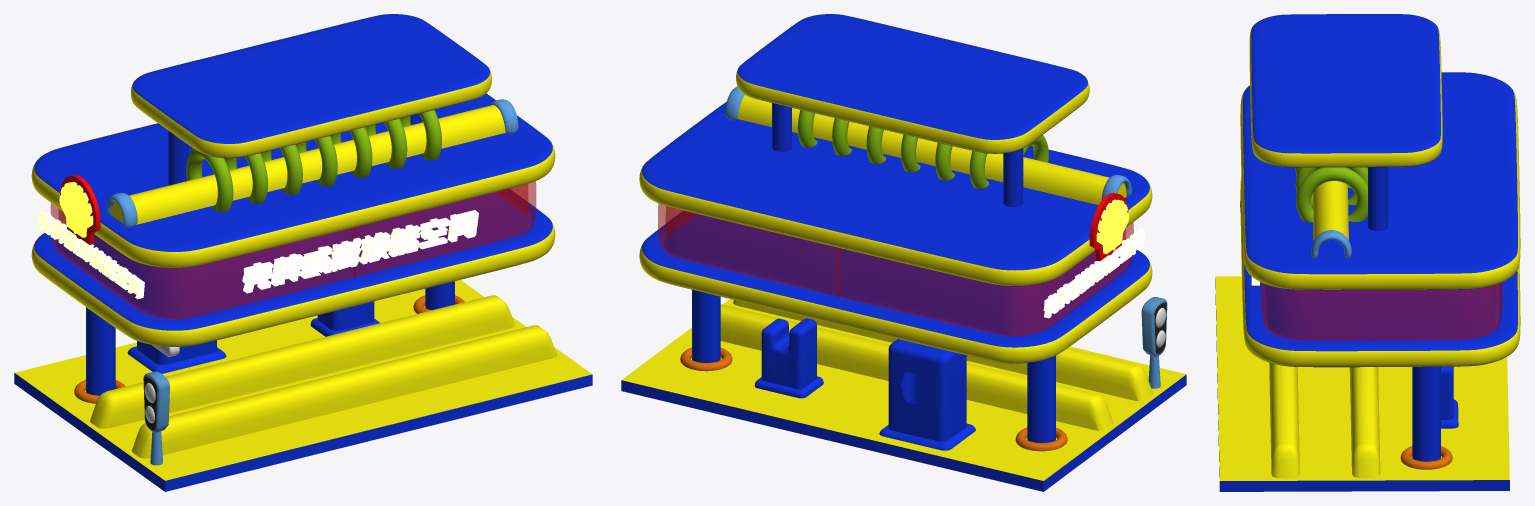
The model's file is HNStation.fbx.
3 renders of one model, left to right at view 1: azimuth 30°, elevation 25°; view 2: azimuth 150°, elevation 25°; view 3: azimuth 270°, elevation 25°, orthographic. The views are drawn at different scales.
Parts seen in each view (by area): view 1: stasiun.003, jalan.001, stasiun.005, stasiun.004, terowongan kereta.004, Torus.004, logo.003, logo.002, gedung.002, traffic light.001, gedung.003, logo.006 (+3 smaller); view 2: stasiun.003, jalan.001, stasiun.005, stasiun.004, gedung.002, terowongan kereta.004, gedung.003, Torus.004, logo.002, traffic light.001, Torus.002, logo.006 (+2 smaller); view 3: stasiun.003, jalan.001, stasiun.005, stasiun.004, Torus.004, terowongan kereta.004, gedung.003, Torus.002, terowongan kereta.003.
Boxes of the visible parts, box(x1,y1,x2,y2) form: stasiun.003: box(31, 93, 555, 395); jalan.001: box(14, 280, 592, 491); stasiun.005: box(131, 14, 491, 185); stasiun.004: box(50, 181, 536, 319); terowongan kereta.004: box(111, 105, 505, 224); Torus.004: box(186, 110, 441, 212); logo.003: box(242, 210, 478, 293); logo.002: box(38, 211, 144, 299); gedung.002: box(127, 340, 226, 373); traffic light.001: box(143, 371, 169, 465); gedung.003: box(310, 301, 379, 336); logo.006: box(59, 182, 93, 237); stasiun.003: box(639, 102, 1152, 442); jalan.001: box(621, 299, 1186, 491); stasiun.005: box(736, 14, 1089, 207); stasiun.004: box(658, 204, 1133, 336); gedung.002: box(879, 339, 975, 450); terowongan kereta.004: box(737, 94, 1126, 204); gedung.003: box(754, 318, 823, 398); Torus.004: box(797, 110, 1048, 192); logo.002: box(1043, 229, 1144, 318); traffic light.001: box(1141, 297, 1167, 388); Torus.002: box(680, 347, 1067, 451); logo.006: box(1096, 199, 1128, 254); stasiun.003: box(1240, 72, 1520, 461); jalan.001: box(1215, 276, 1509, 491); stasiun.005: box(1249, 14, 1442, 230); stasiun.004: box(1260, 282, 1502, 340); Torus.004: box(1295, 167, 1367, 222); terowongan kereta.004: box(1312, 167, 1348, 240); gedung.003: box(1441, 366, 1458, 428); Torus.002: box(1400, 446, 1452, 469); terowongan kereta.003: box(1311, 230, 1351, 258).
Size of the model in its own units: 3022 by 2075 by 1862.
